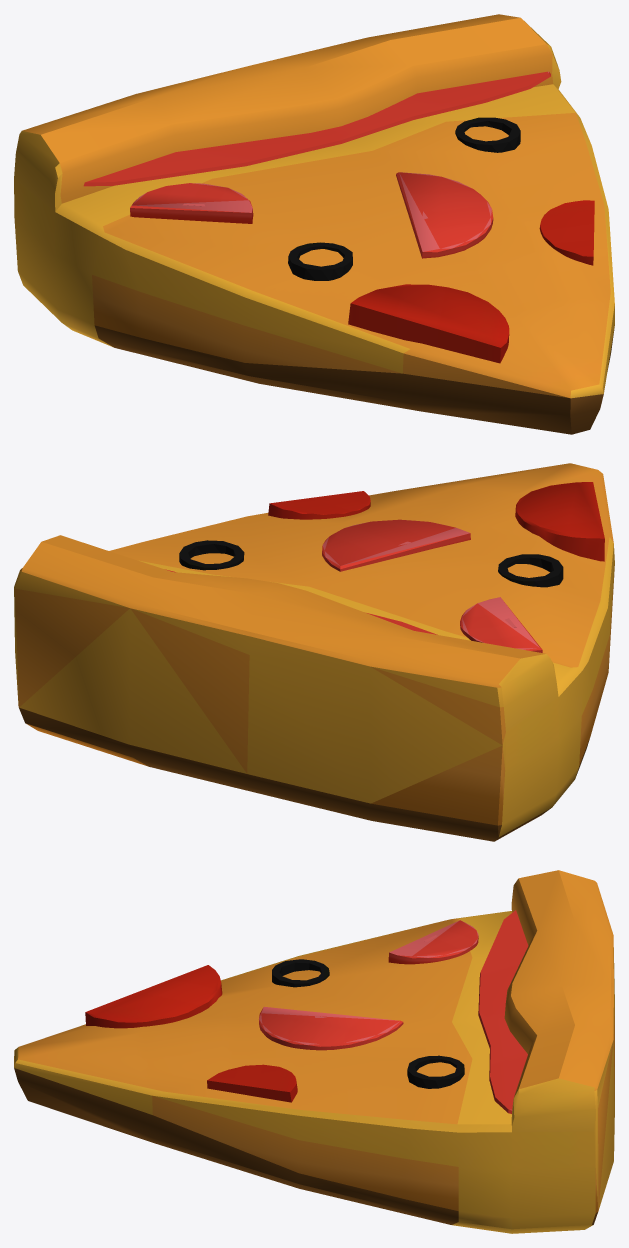
The model's file is Pizza.glb.
The picture shows the model from 3 angles, top to bottom: view 1: azimuth 30°, elevation 25°; view 2: azimuth 150°, elevation 25°; view 3: azimuth 270°, elevation 25°; orthographic projection. The views are drawn at different scales.
Visible parts, largest first — view 1: Pizza; view 2: Pizza; view 3: Pizza.
Part boxes in pixels (<box>): Pizza: <box>14,14,614,434</box>; Pizza: <box>14,463,614,841</box>; Pizza: <box>14,870,614,1233</box>.
Bounding box in the file's own units: 1.63 × 0.5614 × 1.88.
1 material, 1 textured.
